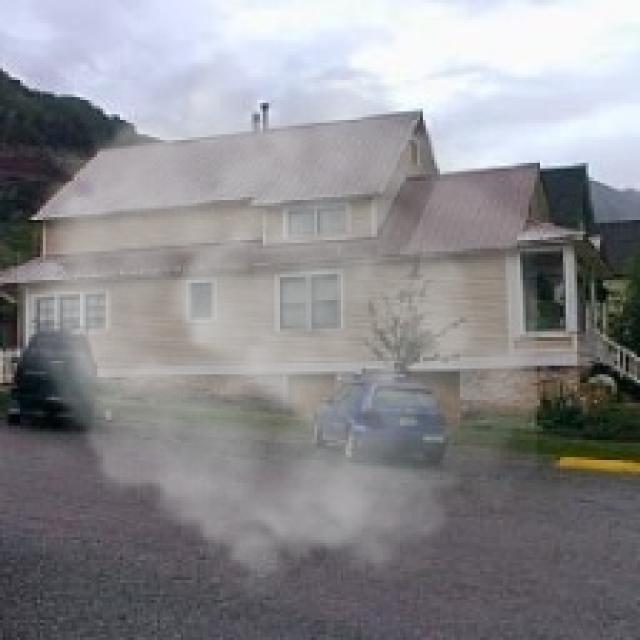smoke: (17, 54, 537, 600)
